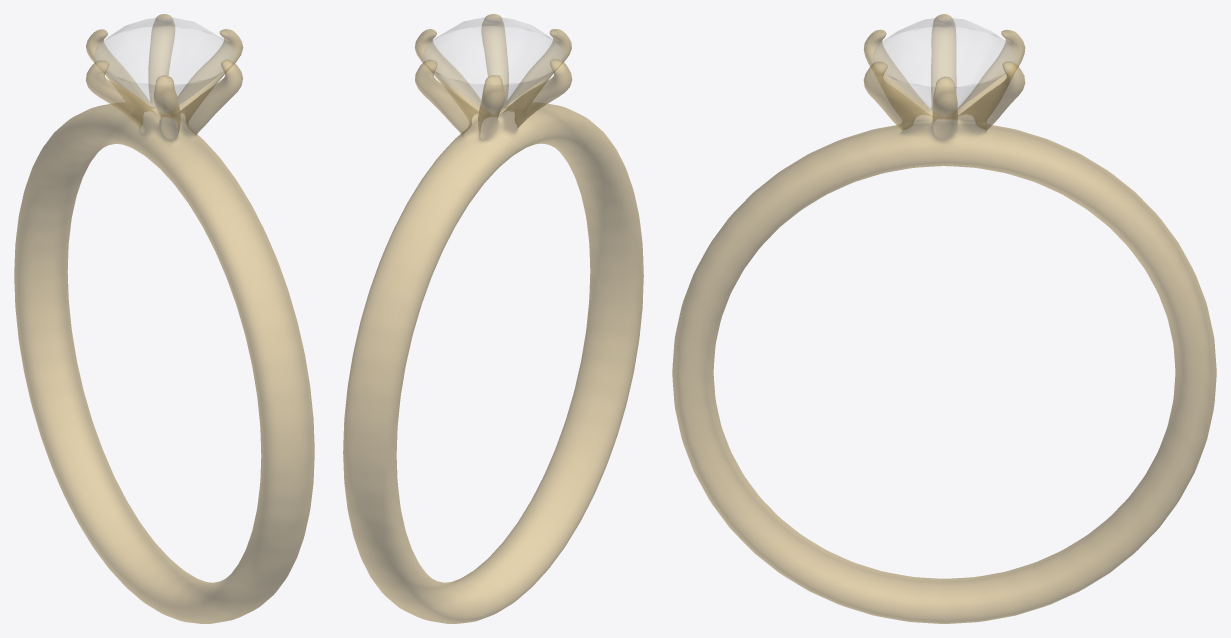
The picture shows the model from 3 angles, left to right: view 1: azimuth 30°, elevation 25°; view 2: azimuth 150°, elevation 25°; view 3: azimuth 270°, elevation 25°; orthographic projection. The views are drawn at different scales.
Visible parts, largest first — view 1: Ring, Diamond; view 2: Ring, Diamond; view 3: Ring, Diamond.
Part boxes in pixels (left/top/right/bottom): Ring: left=14, top=14, right=314, bottom=623; Diamond: left=95, top=18, right=233, bottom=113; Ring: left=343, top=14, right=643, bottom=623; Diamond: left=423, top=17, right=562, bottom=113; Ring: left=672, top=14, right=1216, bottom=623; Diamond: left=873, top=17, right=1015, bottom=116.
Size of the model in its own units: 0.7761 by 2.75 by 2.32.
